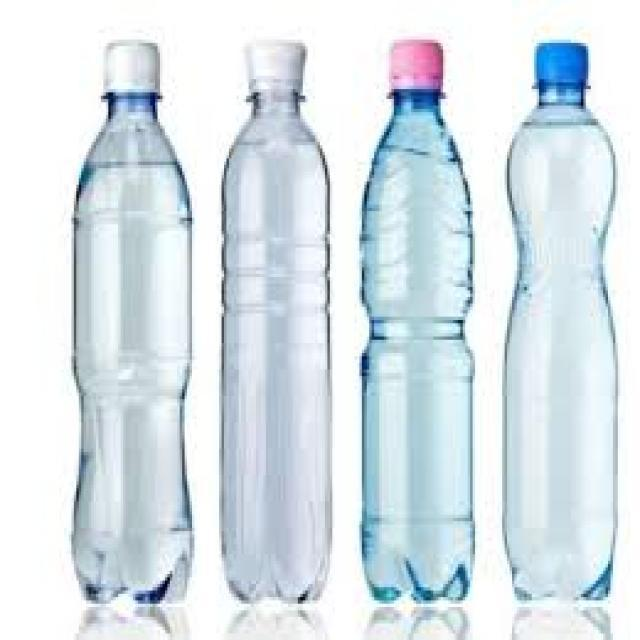Plastic: (74, 32, 195, 612), (358, 31, 478, 600), (220, 38, 334, 609), (508, 42, 615, 602)
